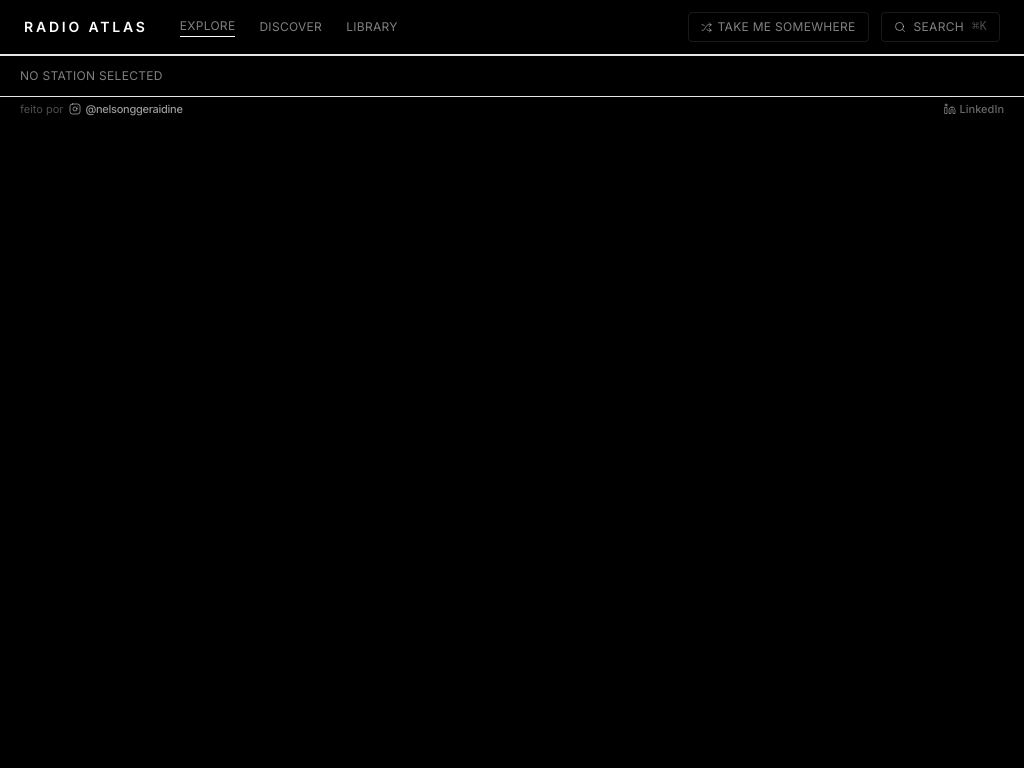
Scenario: ExplorePage › opens the search palette when the header search button is clicked
The width and height of the screenshot is (1024, 768).
Click the button with test id "open-search".
click(940, 27)  # box [881, 12, 1000, 42]
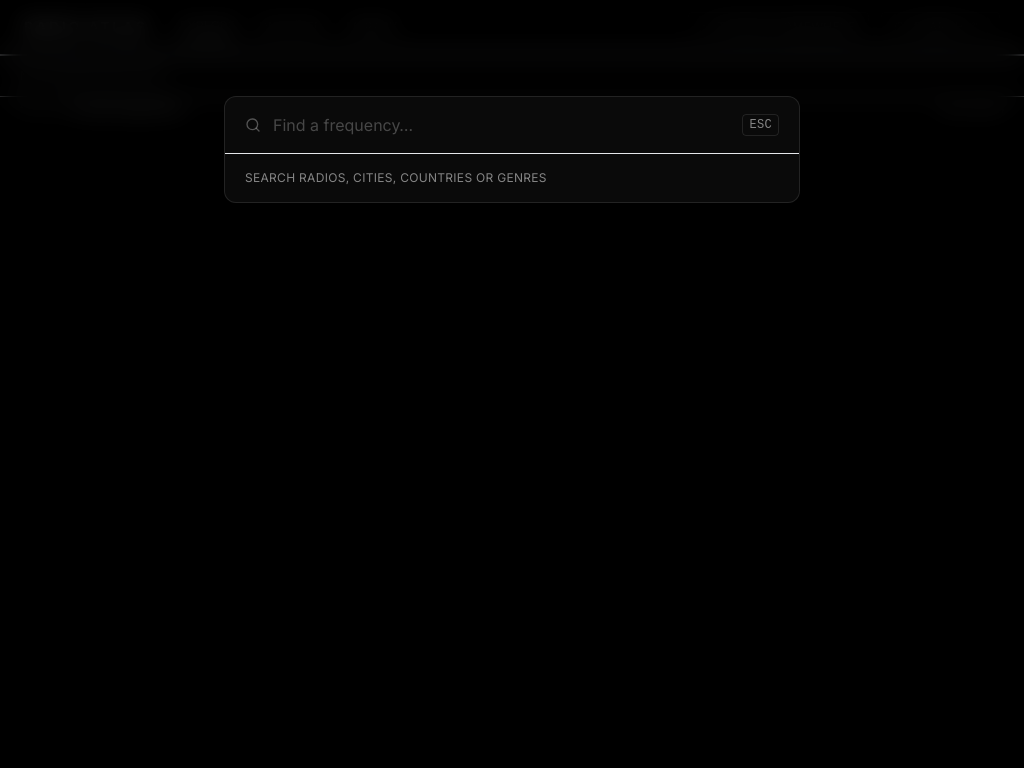
Now the element with test id "global-search-overlay" is shown
